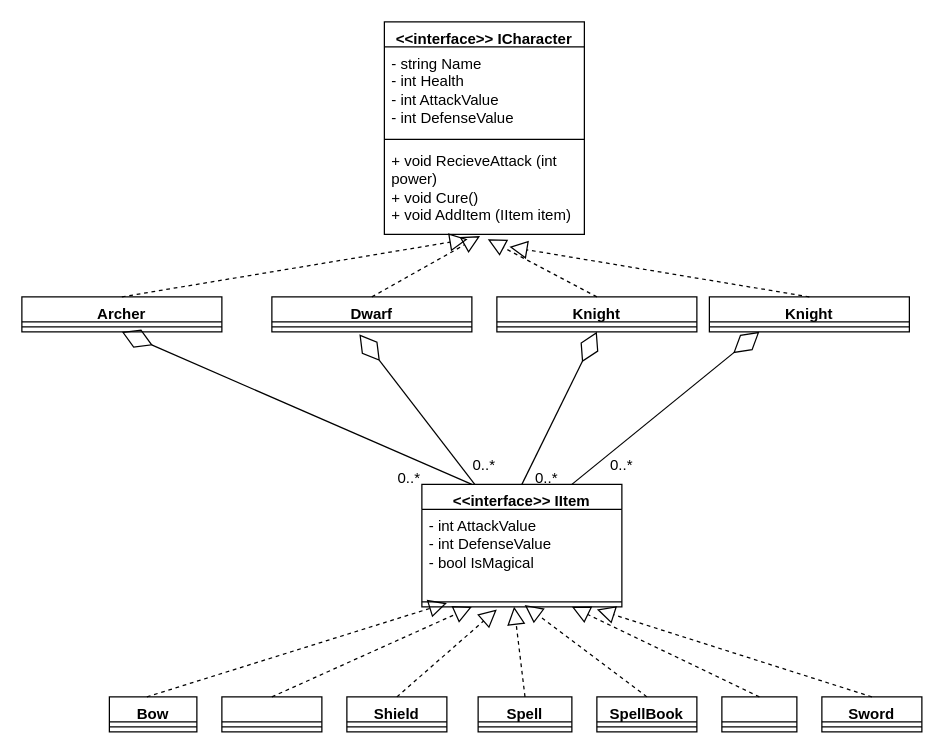
Some shapes in this 944 by 754 pixel diagram are drawn without their labels. The centre of each missing label's shape, as x and y in pixels:
"Helmet" belongs at point 271,714.
"Staff" belongs at point 759,714.
